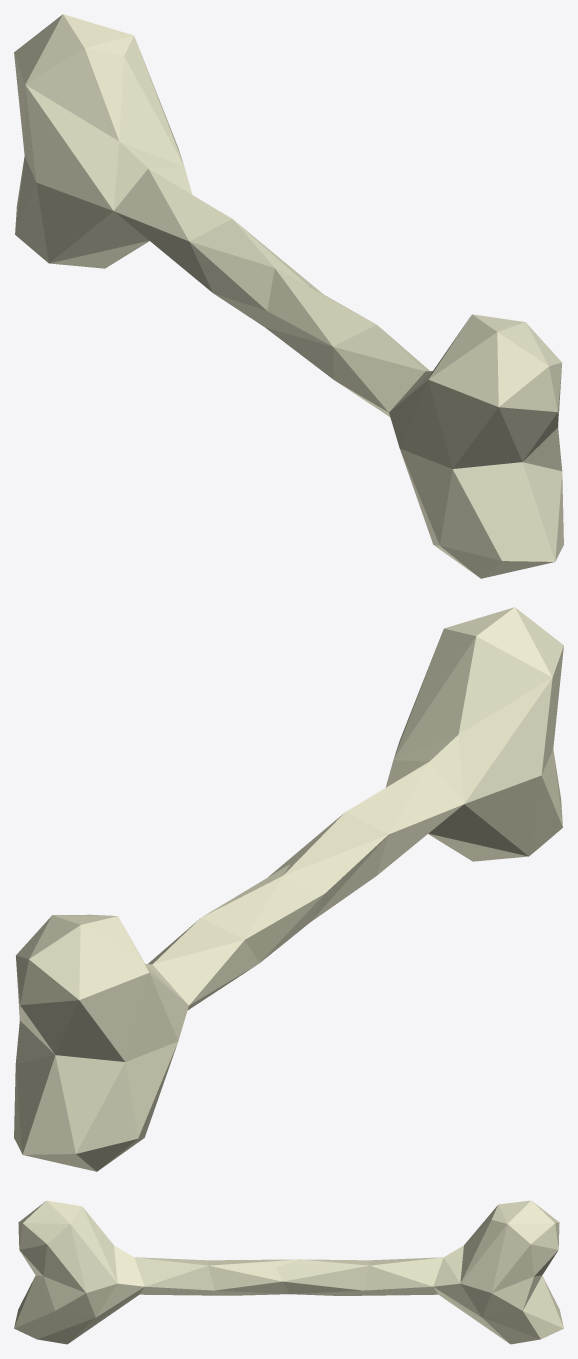
File: dogBone2.fbx
3 renders of one model, top to bottom at view 1: azimuth 30°, elevation 25°; view 2: azimuth 150°, elevation 25°; view 3: azimuth 270°, elevation 25°, orthographic. The views are drawn at different scales.
Visible parts, largest first — view 1: Polygon; view 2: Polygon; view 3: Polygon.
Boxes of the visible parts, x1,y1,x2,y2 form: Polygon: (14,14,563,578); Polygon: (14,607,563,1171); Polygon: (14,1200,563,1344).
Bounding box in the file's own units: 8 × 13.28 × 48.1.
